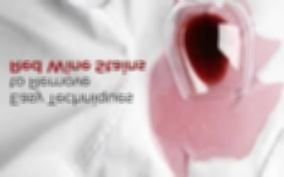wine: (148, 65, 279, 171), (251, 30, 275, 78)
